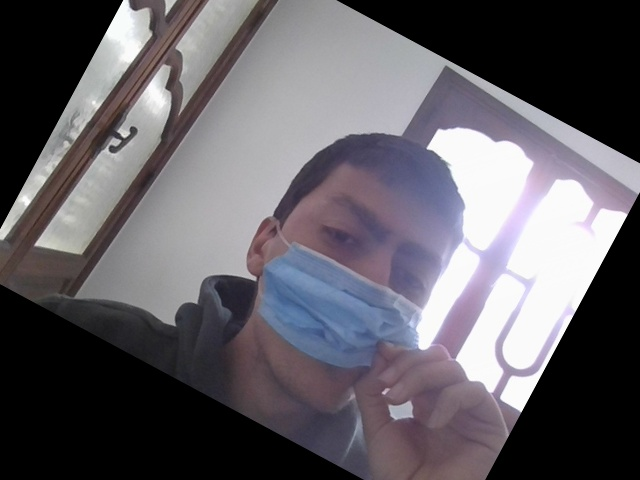mask_weared_incorrect: (263, 126, 453, 426)
